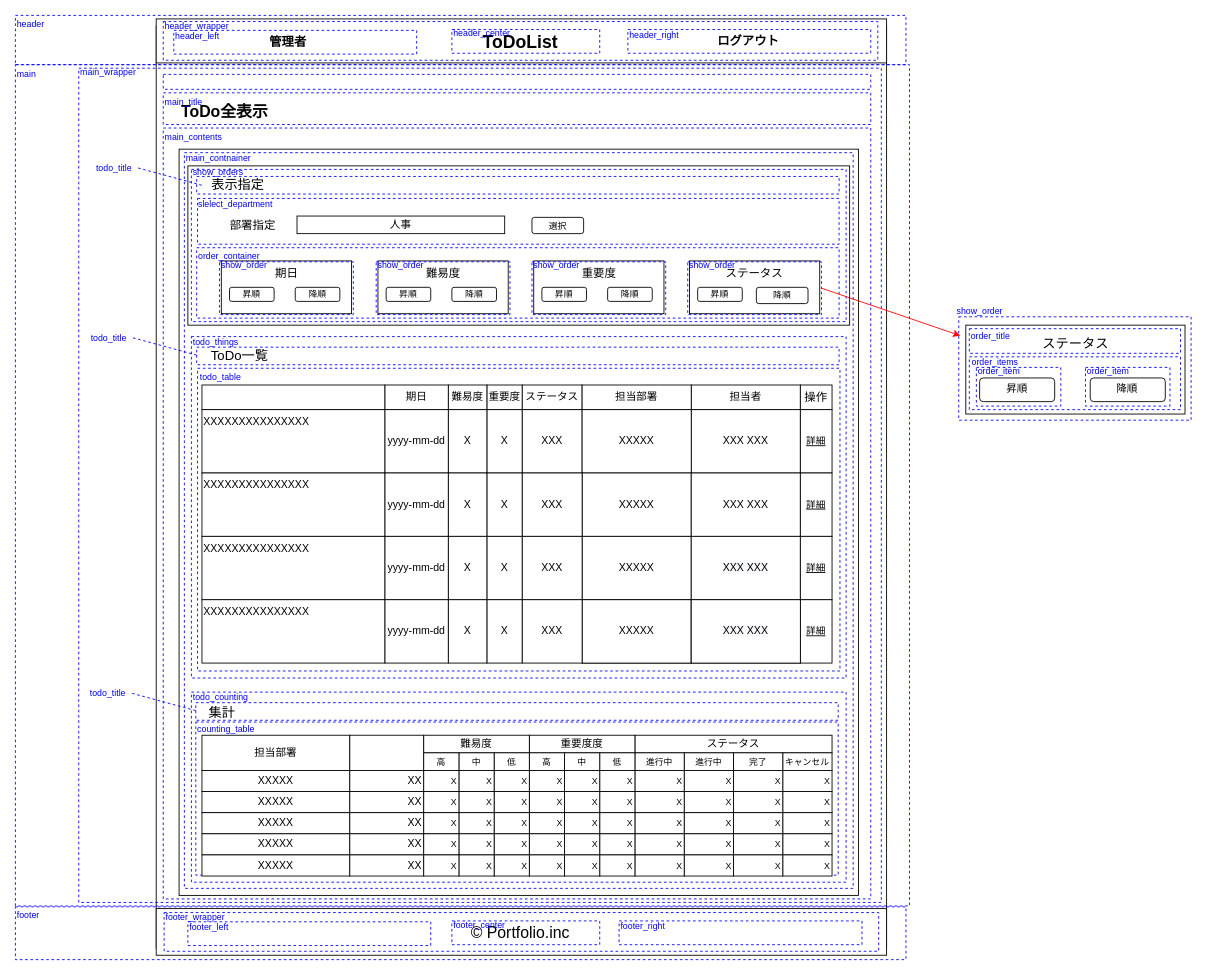
Image size: 1217x978. Some labels were removed from this diagram. Each missing label, with the centre of its shape:
"main_message" belongs at point (516, 81).
"ToDo総数" belongs at point (386, 752).
"タイトル" belongs at point (293, 397).
